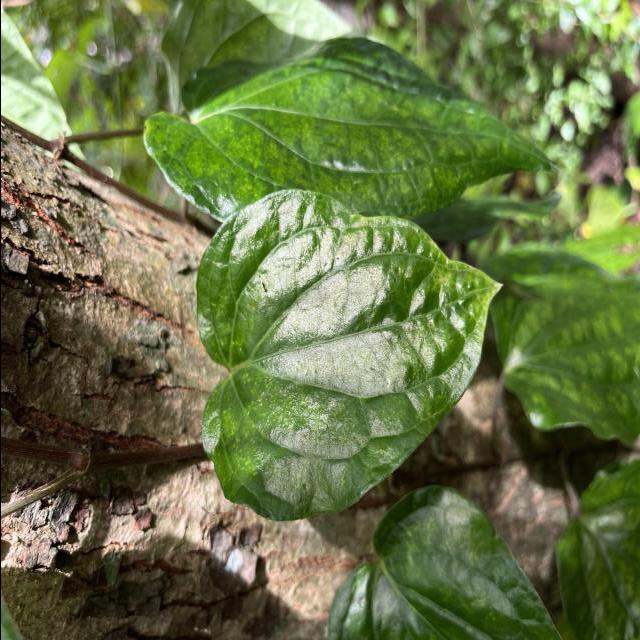Piper betle: (192, 184, 508, 526)
